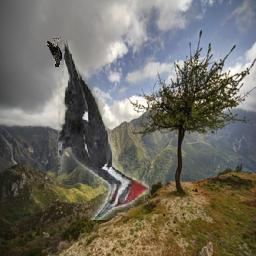Crow: (46, 37, 62, 67)
Woodpecker: (59, 40, 150, 220)
